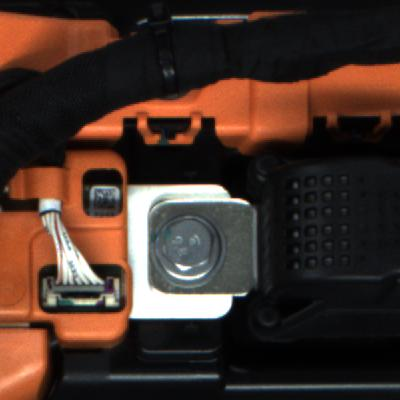nut_b: (143, 203, 234, 292)
